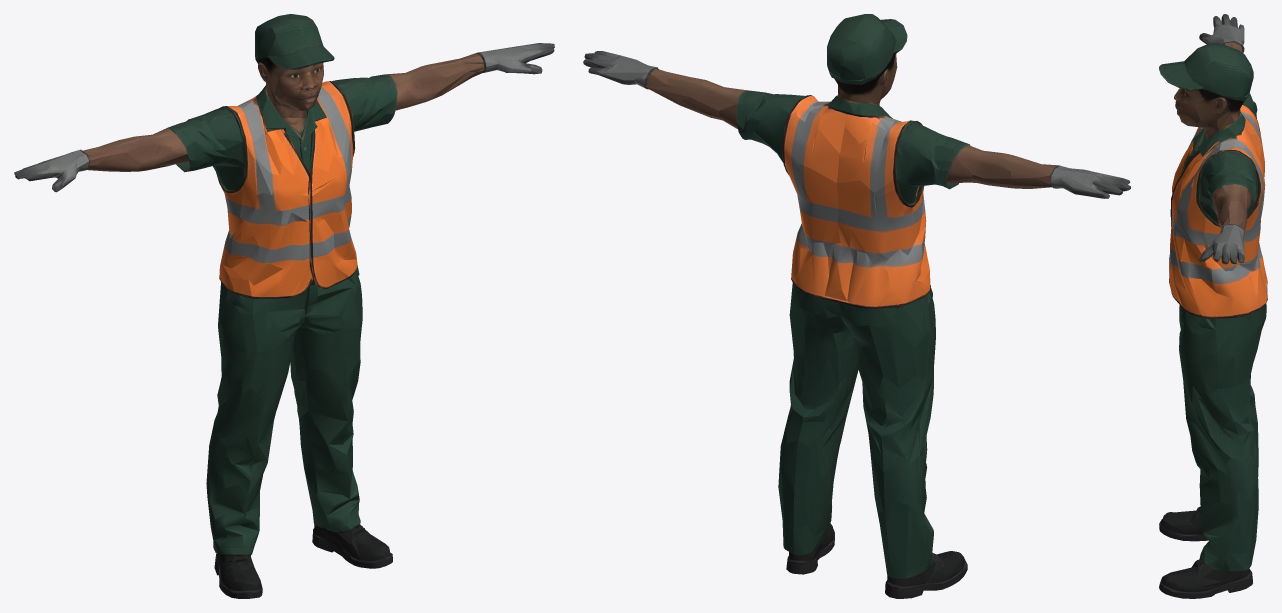
File: image3d.glb
3 views of the same model, side by side, from view 1: azimuth 30°, elevation 25°; view 2: azimuth 150°, elevation 25°; view 3: azimuth 270°, elevation 25° (orthographic). The views are drawn at different scales.
Size of the model in its own units: 1.9 by 1.85 by 0.3532.
Materials: 1 (1 with a texture image).
